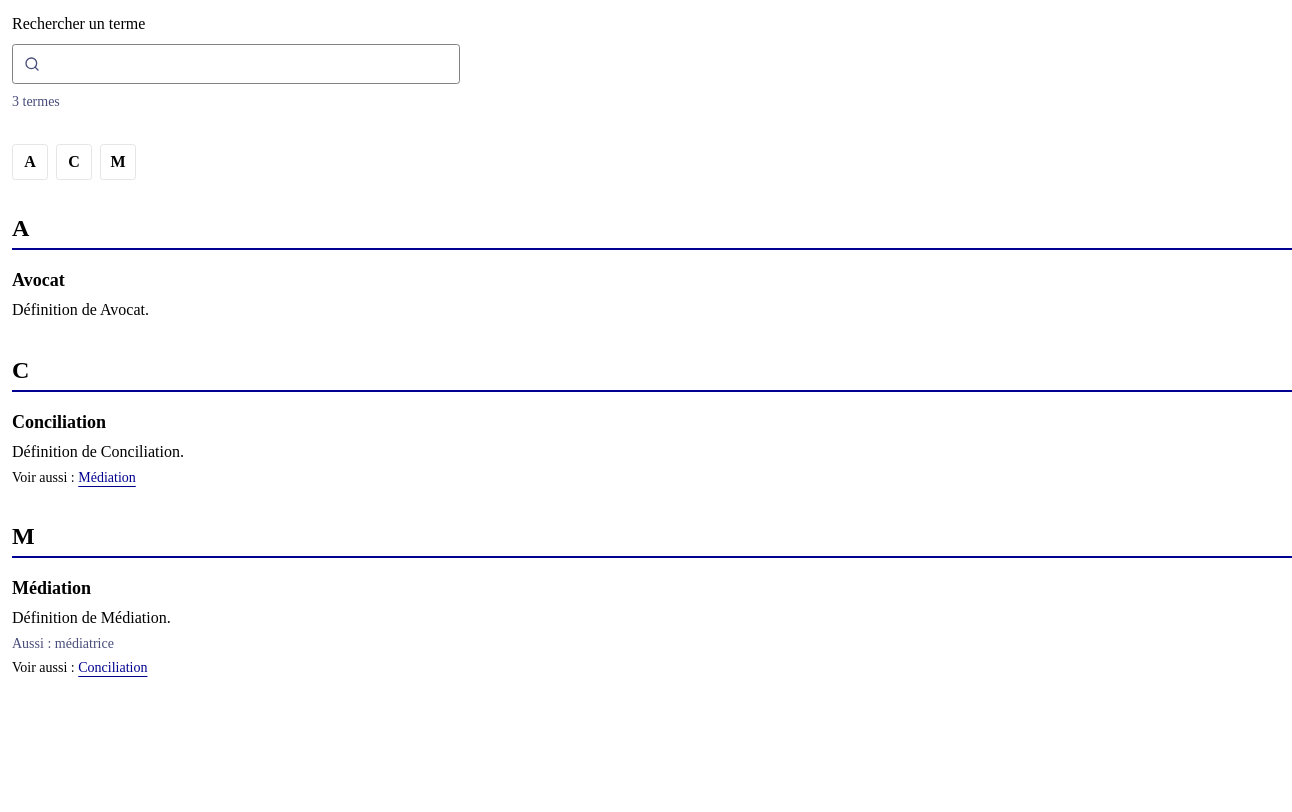
Test: GlossaryList › filters with the labelled search field, ignoring accents, and announces the count
Check: the message reads "3 termes", box [12, 94, 60, 109]
Type "mediatrice" into the search field labelled "Rechercher un terme".
click(236, 64); type("mediatrice")  # box [12, 44, 460, 84]
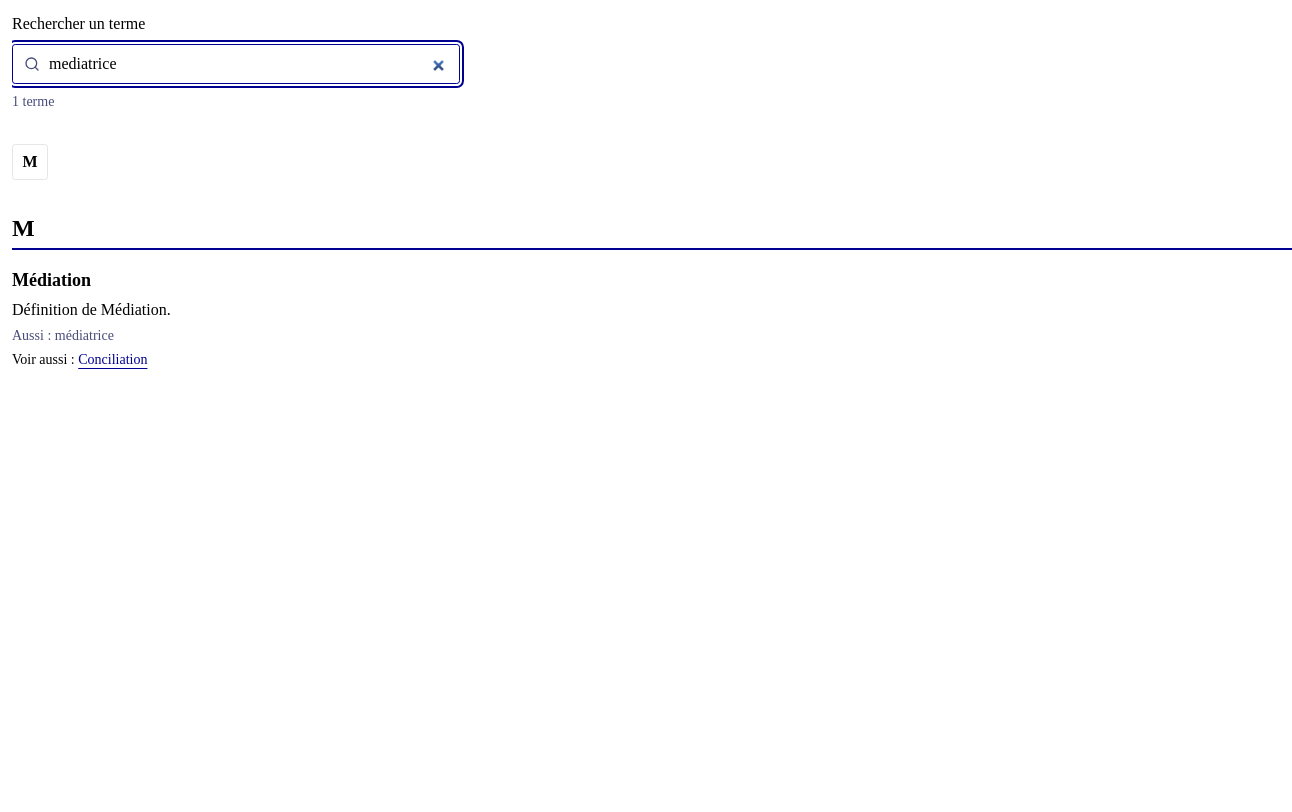
Check: the message reads "1 terme", box [12, 94, 54, 109]
